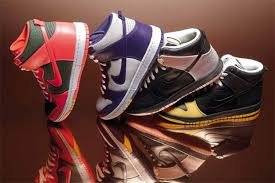nike: (42, 30, 62, 89), (110, 41, 127, 85)
